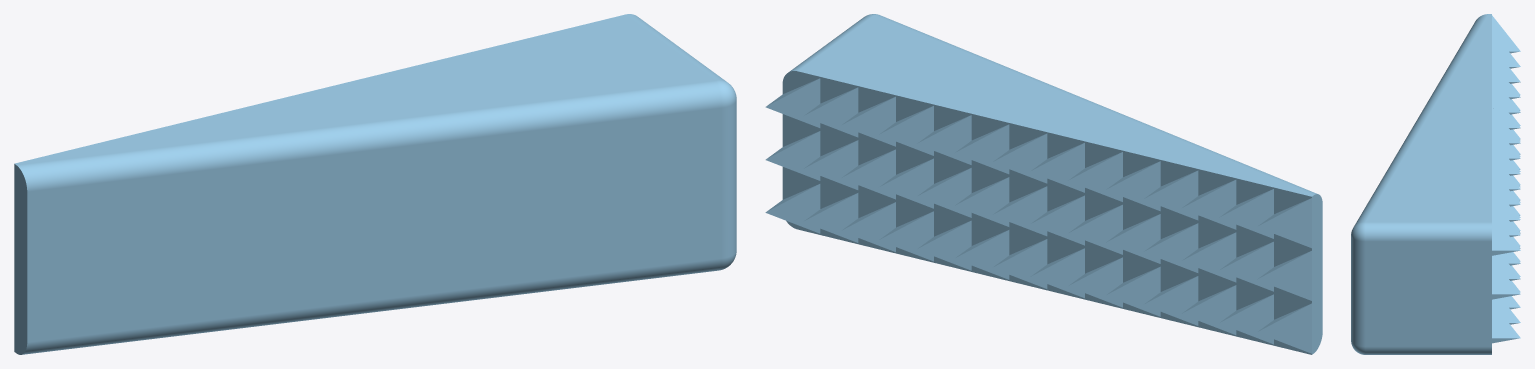
Rendered from Doorstopper_Rev_2_colorfix.glb.
3 renders of one model, left to right at view 1: azimuth 30°, elevation 25°; view 2: azimuth 150°, elevation 25°; view 3: azimuth 270°, elevation 25°, orthographic. The views are drawn at different scales.
Visible parts, largest first — view 1: Part 1; view 2: Part 1; view 3: Part 1.
Part boxes in pixels (bbox=[...]): Part 1: bbox=[14, 14, 736, 354]; Part 1: bbox=[765, 14, 1322, 354]; Part 1: bbox=[1351, 14, 1520, 354].
Bounding box in the file's own units: 0.0889 × 0.0254 × 0.0298.
